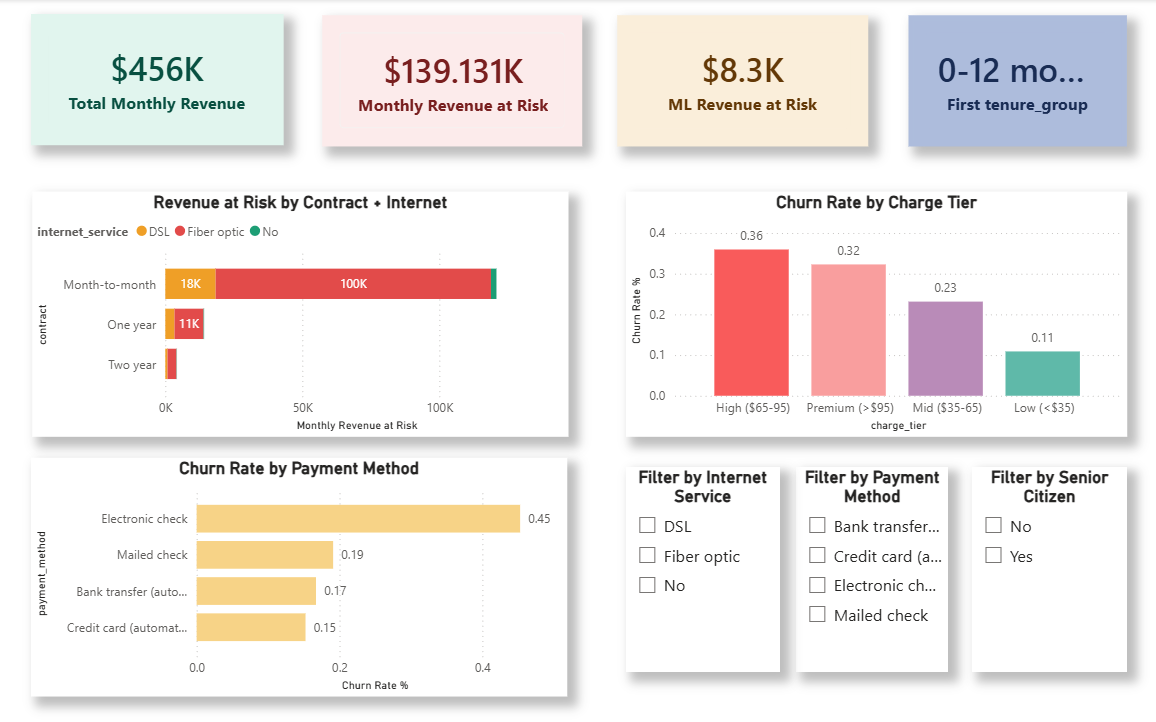

The page's visual inventory and layout, read from the dashboard file:
{"tool":"powerbi","page":{"name":" Revenue & Segment Analysis","canvas":[1280,720],"ordinal":1},"visuals":[{"type":"cardVisual","fields":{"Data":["Telco_Churn_Predictions.Total Monthly Revenue"]},"box":[39.3,14.7,247.9,128.8],"z":0},{"type":"cardVisual","fields":{"Data":["Telco_Churn_Predictions.Monthly Revenue at Risk"]},"box":[325.2,16,255.2,128.8],"z":1000},{"type":"cardVisual","fields":{"Data":["Telco_Churn_Predictions.ML Revenue at Risk"]},"box":[614.7,16,246.6,128.8],"z":2000},{"type":"barChart","title":"Revenue at Risk by Contract + Internet","fields":{"Category":["Telco_Churn_Predictions.contract"],"Y":["Telco_Churn_Predictions.Monthly Revenue at Risk"],"Series":["Telco_Churn_Predictions.internet_service"]},"box":[40.5,189,526.4,240.5],"z":3000},{"type":"columnChart","title":"Churn Rate by Charge Tier","fields":{"Category":["Telco_Churn_Predictions.charge_tier"],"Y":["Telco_Churn_Predictions.Churn Rate %"]},"box":[623.3,189,492,240.5],"z":4000},{"type":"clusteredBarChart","title":"Churn Rate by Payment Method","fields":{"Y":["Telco_Churn_Predictions.Churn Rate %"],"Category":["Telco_Churn_Predictions.payment_method"]},"box":[39.3,450.3,526.4,234.4],"z":5000},{"type":"slicer","title":"Filter by Internet Service","fields":{"Values":["Telco_Churn_Predictions.internet_service"]},"box":[623.3,458.9,150.9,201.2],"z":6000},{"type":"slicer","title":"Filter by Payment Method","fields":{"Values":["Telco_Churn_Predictions.payment_method"]},"box":[790.2,458.9,149.7,201.2],"z":7000},{"type":"slicer","title":"Filter by Senior Citizen","fields":{"Values":["Telco_Churn_Predictions.senior_citizen"]},"box":[963.2,458.9,152.1,201.2],"z":8000},{"type":"cardVisual","fields":{"Data":["Min(Telco_Churn_Predictions.tenure_group)"]},"box":[900.6,16,214.7,128.8],"z":9000}]}

Visuals, with their boxes on the page's 1280x720 design canvas (x1, y1, x2, y2). These are canvas units, not pixel positions in the 1156x722 screenshot, which may show the page scaled, cropped or inside an application window:
cardVisual - Telco_Churn_Predictions.Total Monthly Revenue: [x1=39, y1=15, x2=287, y2=144]
cardVisual - Telco_Churn_Predictions.Monthly Revenue at Risk: [x1=325, y1=16, x2=580, y2=145]
cardVisual - Telco_Churn_Predictions.ML Revenue at Risk: [x1=615, y1=16, x2=861, y2=145]
"Revenue at Risk by Contract + Internet" barChart: [x1=40, y1=189, x2=567, y2=430]
"Churn Rate by Charge Tier" columnChart: [x1=623, y1=189, x2=1115, y2=430]
"Churn Rate by Payment Method" clusteredBarChart: [x1=39, y1=450, x2=566, y2=685]
"Filter by Internet Service" slicer: [x1=623, y1=459, x2=774, y2=660]
"Filter by Payment Method" slicer: [x1=790, y1=459, x2=940, y2=660]
"Filter by Senior Citizen" slicer: [x1=963, y1=459, x2=1115, y2=660]
cardVisual - Min(Telco_Churn_Predictions.tenure_group): [x1=901, y1=16, x2=1115, y2=145]
